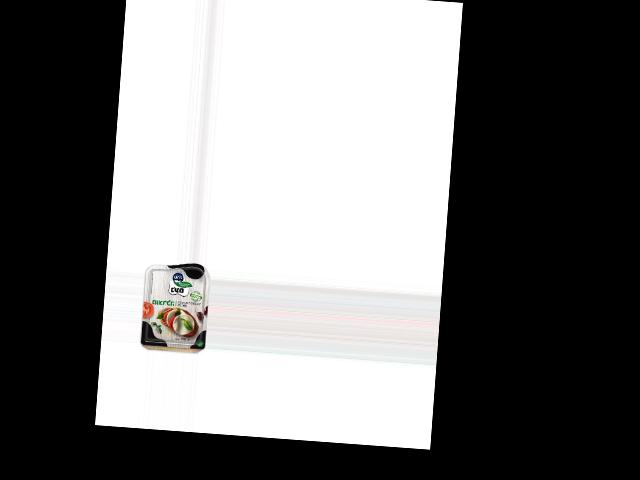cheese: (139, 261, 210, 350)
